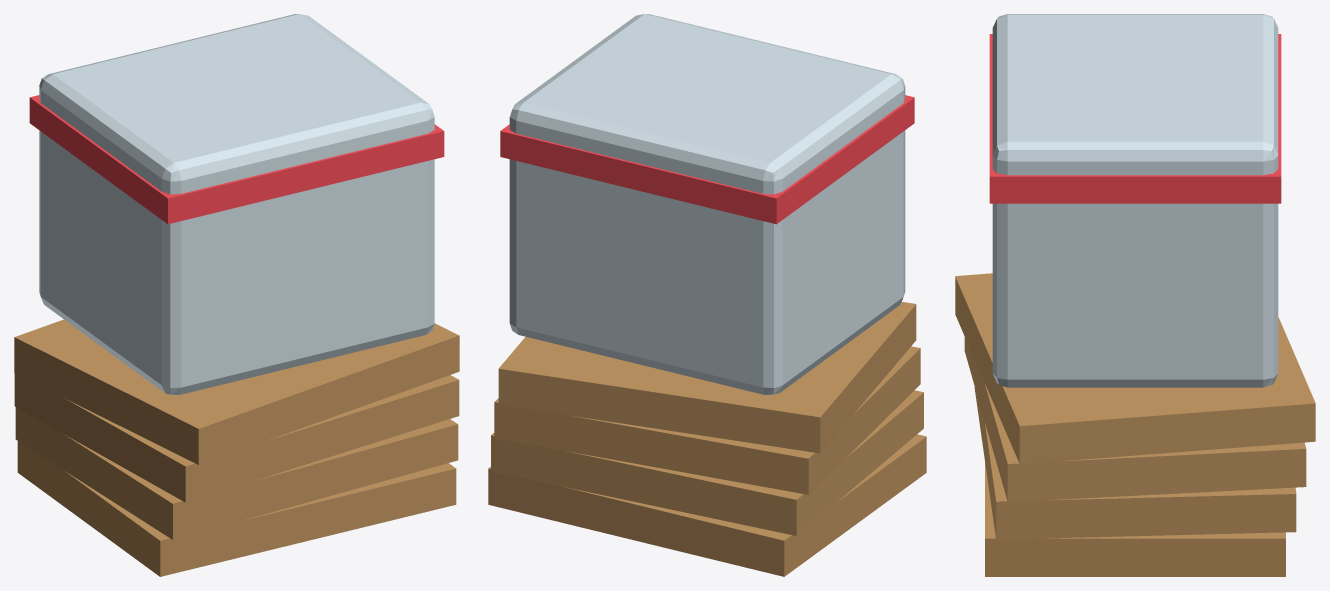
Rendered from pallet-stack.glb.
3 renders of one model, left to right at view 1: azimuth 30°, elevation 25°; view 2: azimuth 150°, elevation 25°; view 3: azimuth 270°, elevation 25°, orthographic. The views are drawn at different scales.
Parts seen in each view (by area): view 1: pallet-stack; view 2: pallet-stack; view 3: pallet-stack.
Boxes of the visible parts, x1=… form: pallet-stack: x1=14, y1=14, x2=459, y2=576; pallet-stack: x1=488, y1=14, x2=926, y2=576; pallet-stack: x1=955, y1=14, x2=1315, y2=576.
Bounding box in the file's own units: 1.36 × 1.55 × 1.2.
